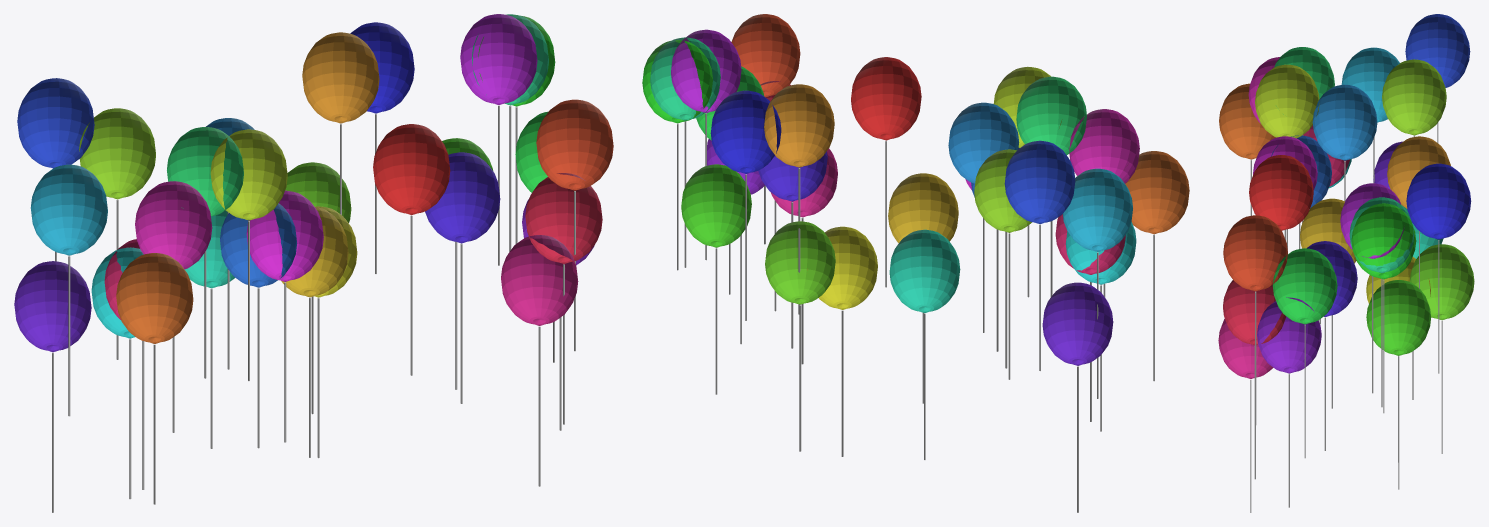
The model's file is balloons.glb.
3 renders of one model, left to right at view 1: azimuth 30°, elevation 25°; view 2: azimuth 150°, elevation 25°; view 3: azimuth 270°, elevation 25°, orthographic. The views are drawn at different scales.
Size of the model in its own units: 4.95 by 3.8 by 2.53.
